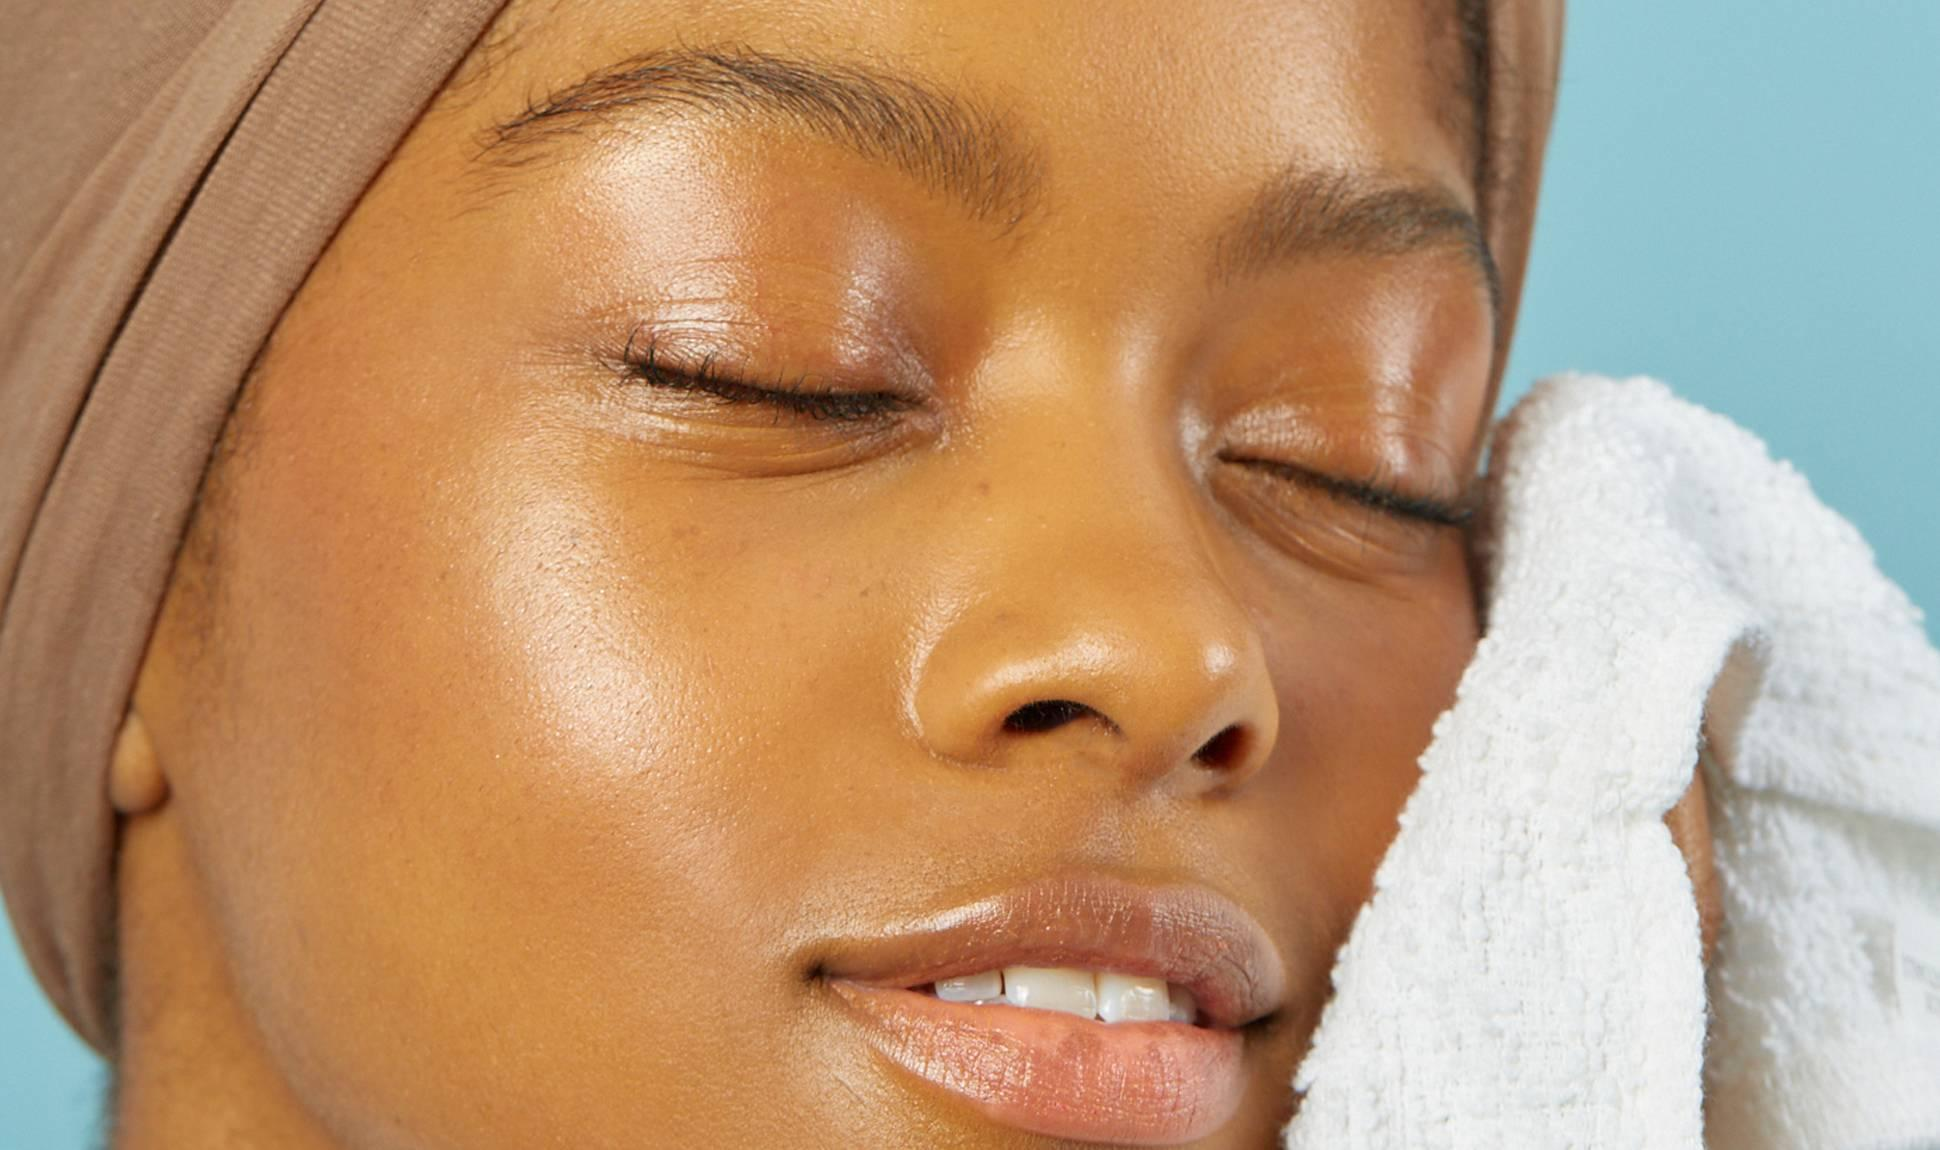Oily-Skin: (459, 401, 678, 793), (605, 145, 753, 363), (1250, 12, 1364, 171), (645, 832, 767, 977), (1173, 383, 1327, 479), (778, 993, 867, 1150), (1358, 271, 1427, 471), (895, 553, 964, 749), (841, 181, 904, 385), (973, 283, 1065, 409), (986, 628, 1116, 693), (1119, 318, 1156, 409), (1198, 632, 1235, 675)
